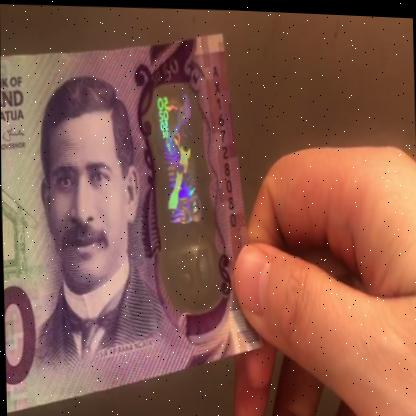50F: (155, 88, 216, 300)
